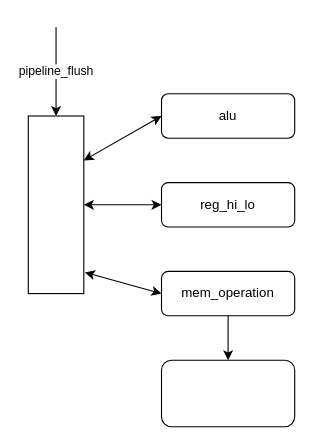
This 314x446 diagram has some shape labels left out. The shapes that lost their labels are listed below. From the top down, each one's centre as x and y in pixels, then its label:
At pixel 55 204: "EXE".
At pixel 227 393: "data_sram".
